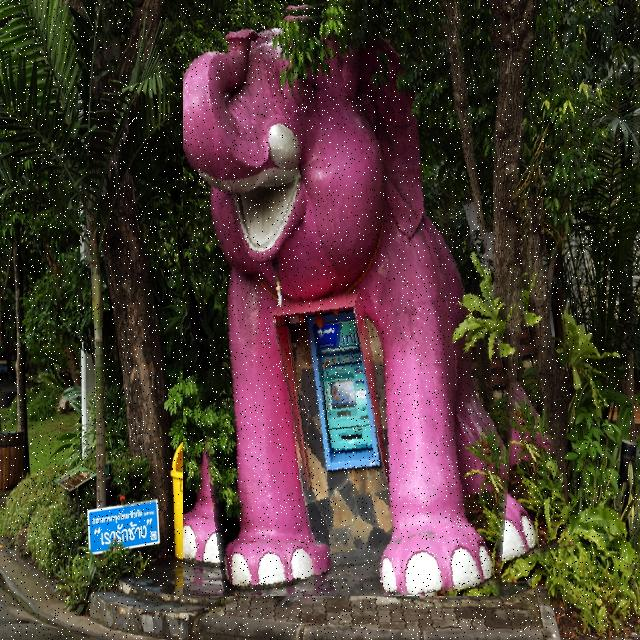elephant: (183, 0, 545, 596)
